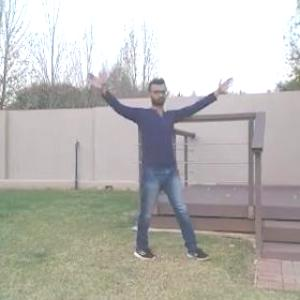takeoff: (50, 72, 212, 268)
